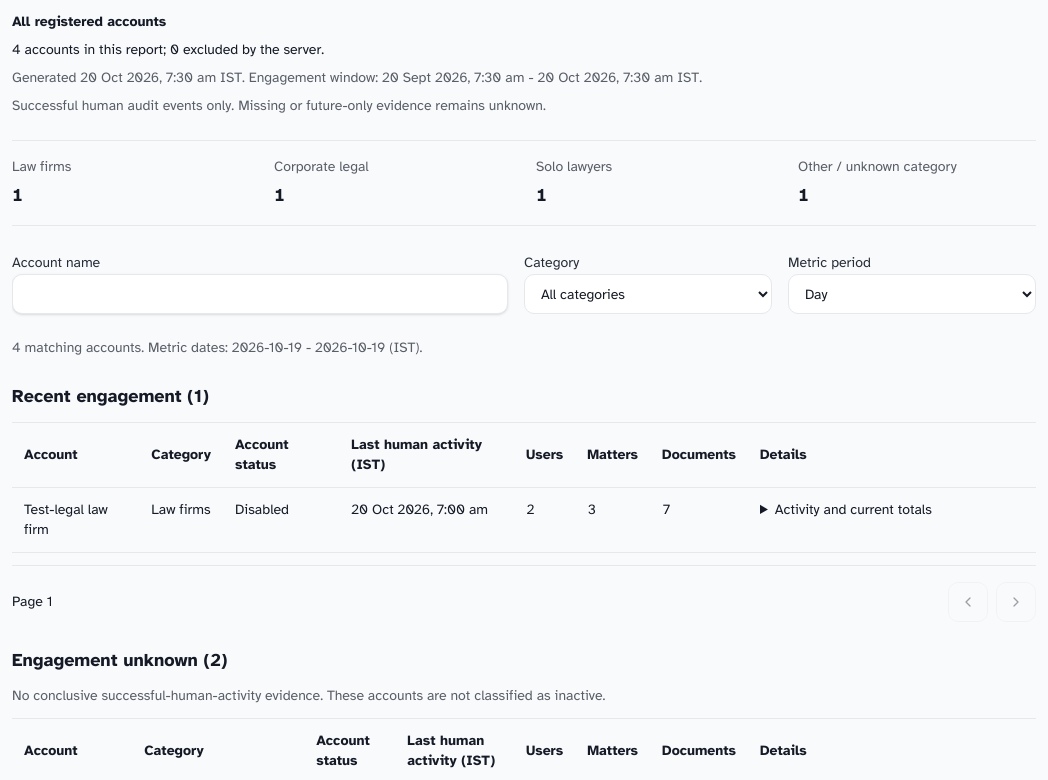
canonical platform account activity › uses accessible category, name and metric-period filters without changing source totals
This screenshot has width=1048, height=780.
Select "Solo lawyers" in the dropdown labelled "Category". click: (648, 294)
box: [524, 274, 772, 314]
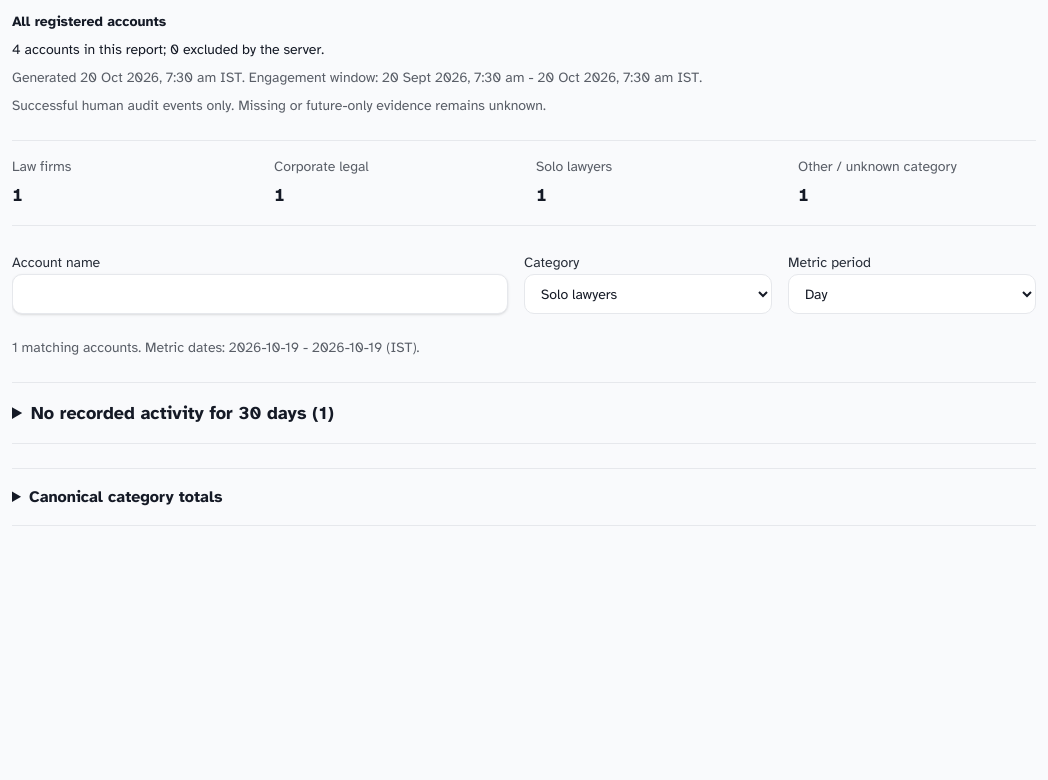
Check: the text "Test-legal law firm" is gone
Check: the text "1 matching accounts. Metric dates: 2026-10-19 - 2026-10-19 (IST)." is shown, box [12, 339, 420, 356]
Select "Month" in the dropdown labelled "Metric period". click: (912, 294)
box: [788, 274, 1036, 314]
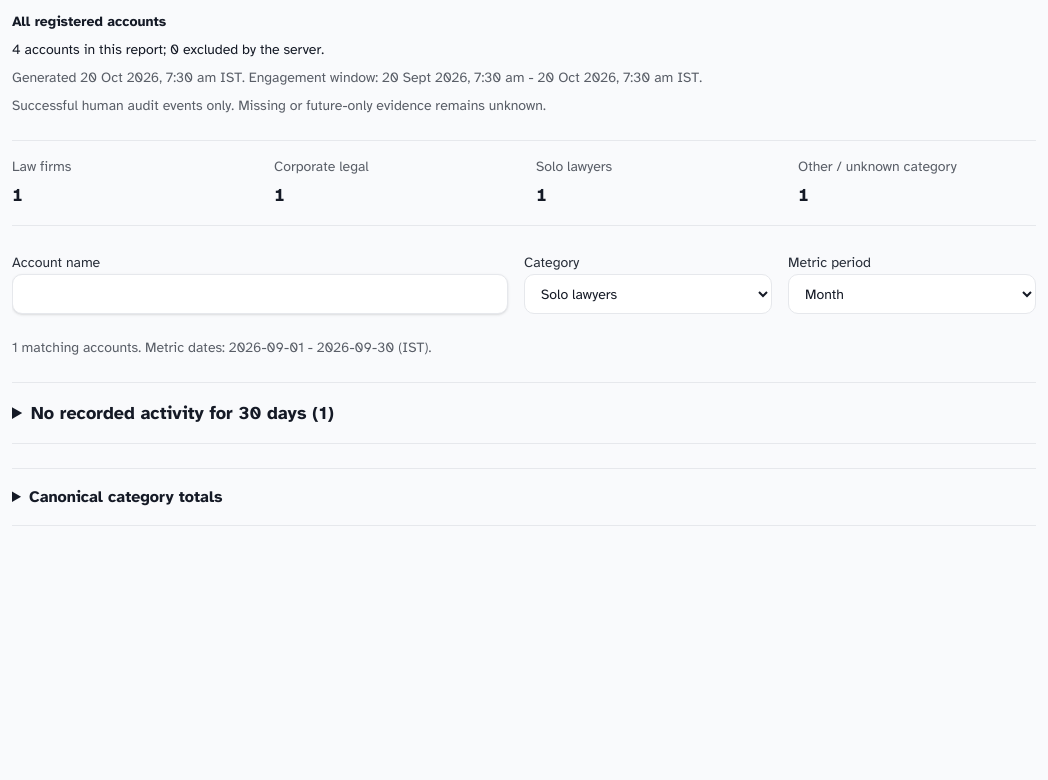
Check: the text "1 matching accounts. Metric dates: 2026-09-01 - 2026-09-30 (IST)." is shown, box [12, 339, 431, 356]
Type "nonexistent account" into the search field labelled "Account name". click: (260, 294)
box: [12, 274, 508, 314]
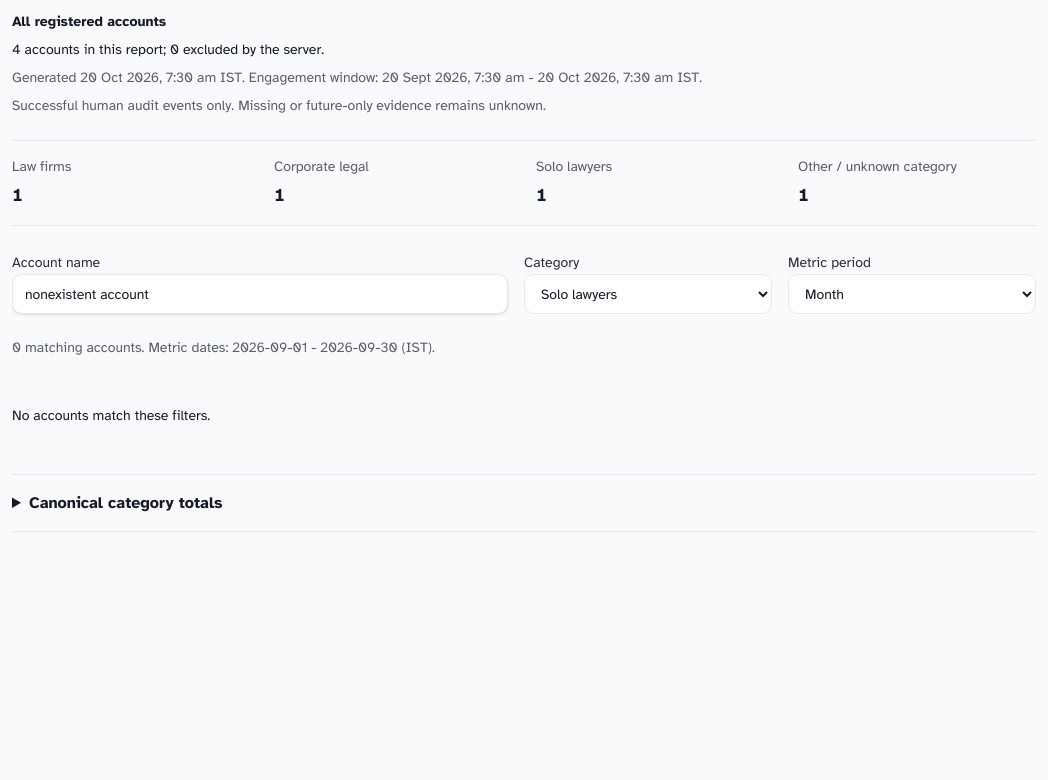
Check: the text "4 accounts in this report; 0 excluded by the server." is shown, box [12, 41, 324, 58]
Check: the text "No accounts match these filters." is shown, box [12, 407, 210, 424]
